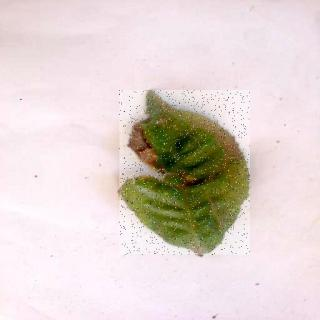Brown Blight: (121, 92, 251, 257)
